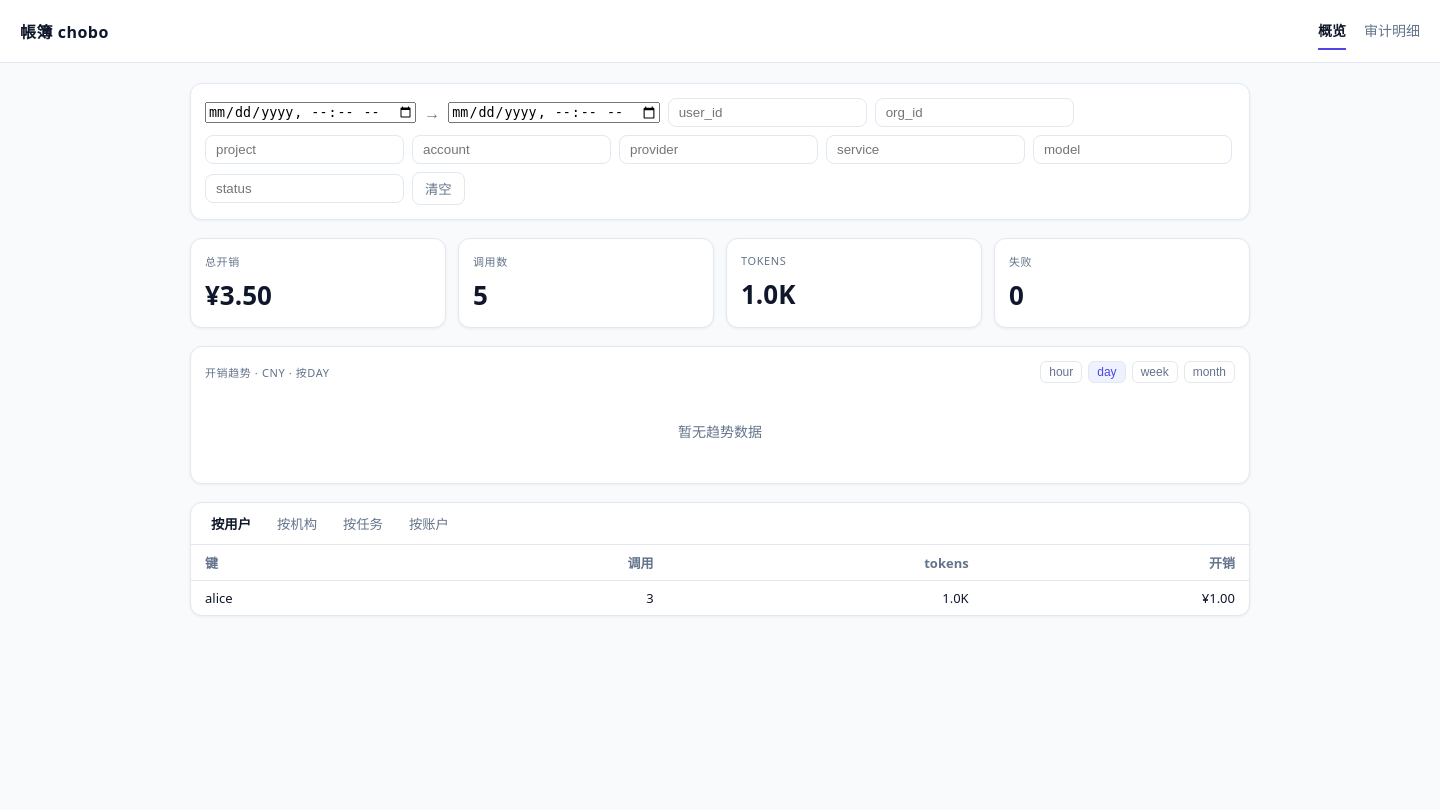
Scenario: drilling a ranking row writes the correct filter (by-user→user_id)
This screenshot has width=1440, height=810.
Click the text "alice" at [219, 598], box left=191, top=580, right=433, bottom=615
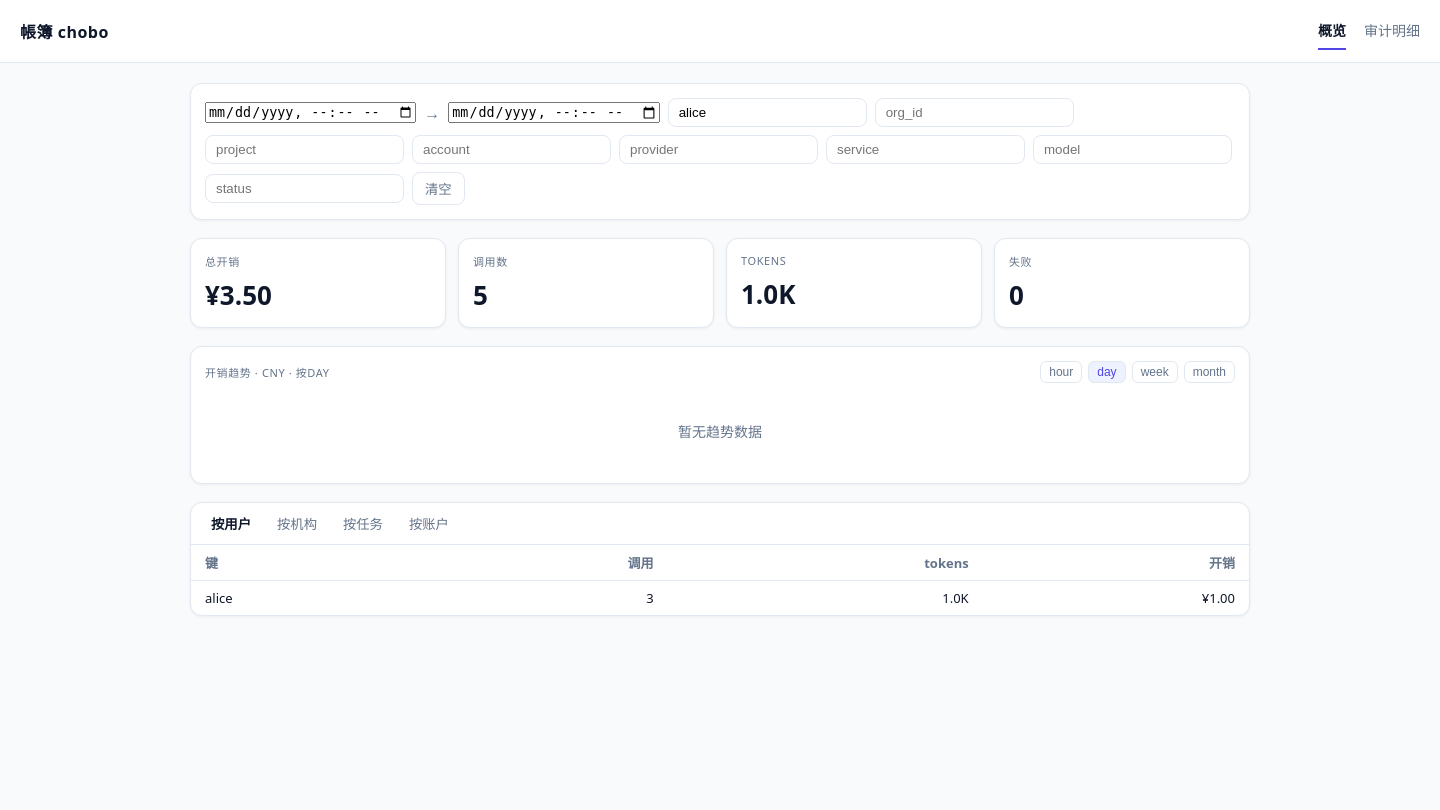
Now the field named "user_id" holds "alice", box left=668, top=98, right=867, bottom=127
